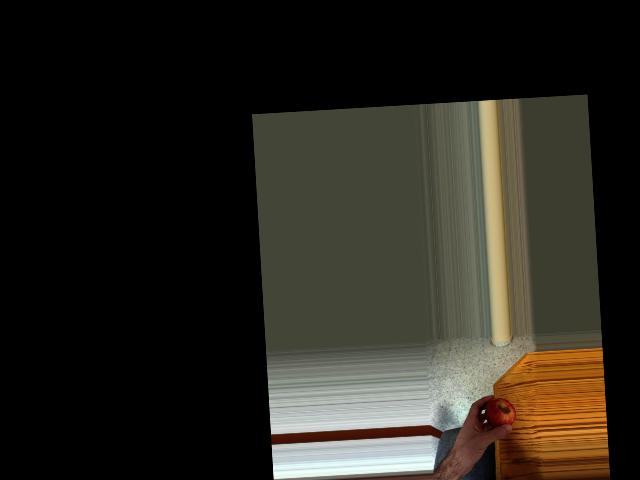apple: (481, 396, 518, 432)
